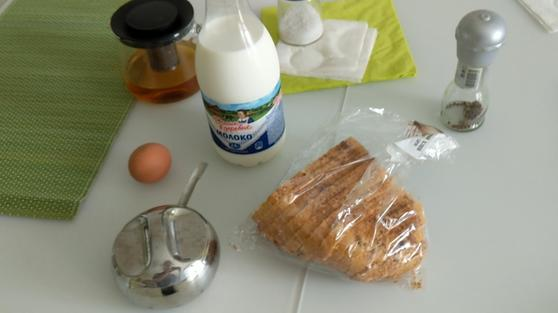egg: (127, 141, 175, 185)
milk: (199, 10, 293, 172)
white_bread: (247, 138, 431, 290)
